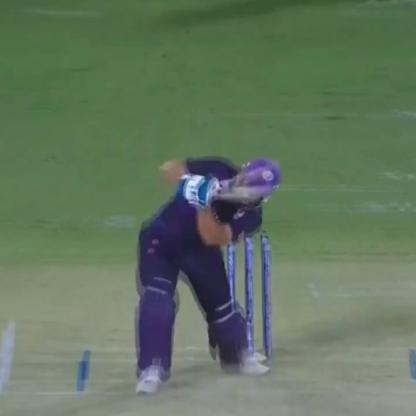bat: (210, 180, 275, 209)
